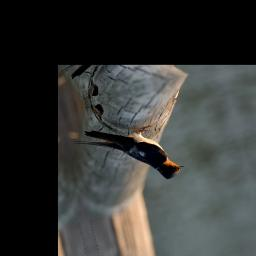Swallow: (70, 106, 190, 206)
